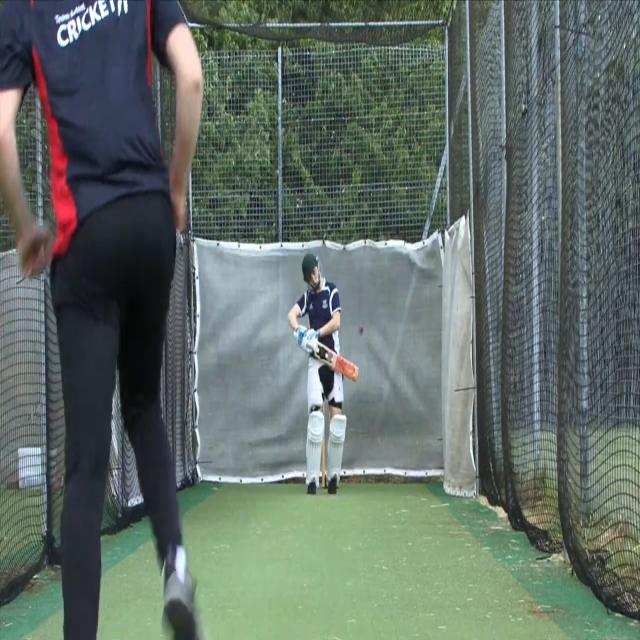batsman: (286, 251, 360, 498)
